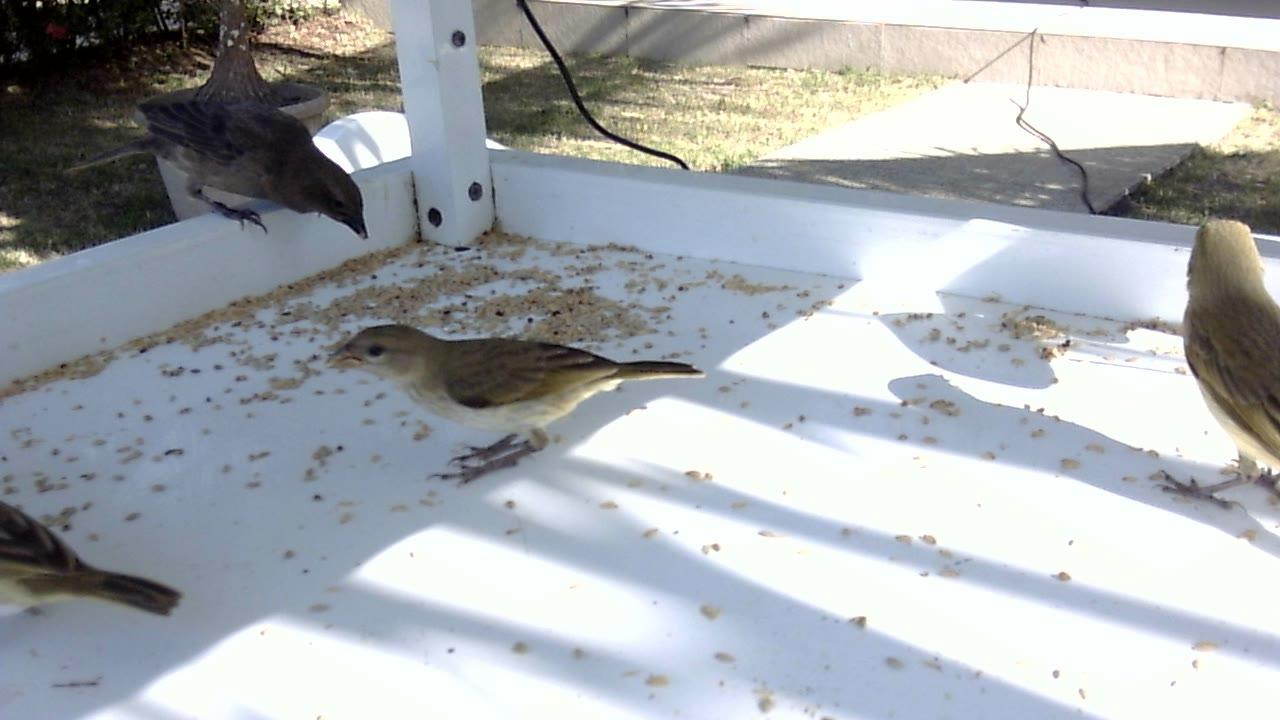canario_do_amazonas: (324, 323, 708, 492), (1150, 219, 1280, 520), (1, 496, 189, 624)
chupim: (63, 99, 372, 244)
